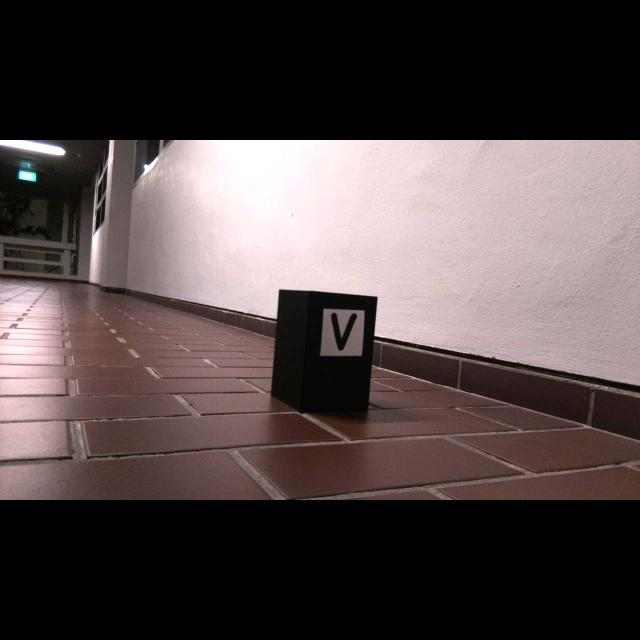V: (331, 313, 357, 350)
